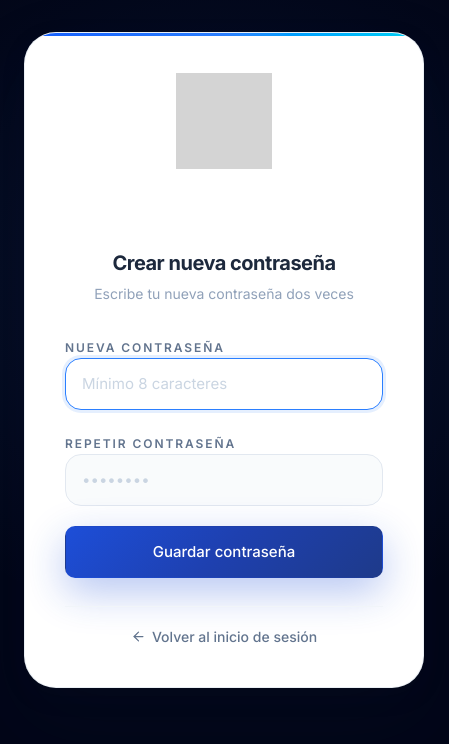
Test: ResetPasswordPage › si el enlace ya fue usado muestra el error del backend
Type "ClaveNueva123" into the password field with placeholder "Mínimo 8 caracteres" at (224, 384), box [65,358,383,410]
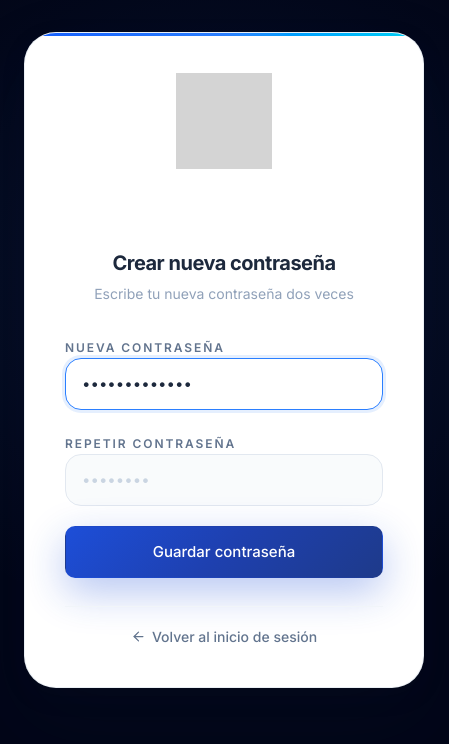
Type "ClaveNueva123" into the password field with placeholder "••••••••" at (224, 480), box [65,454,383,506]
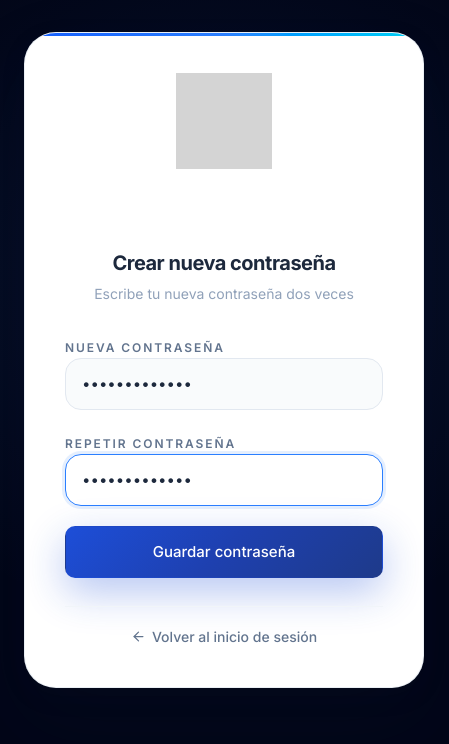
Click the button "Guardar contraseña" at (224, 552), box [65,526,383,578]
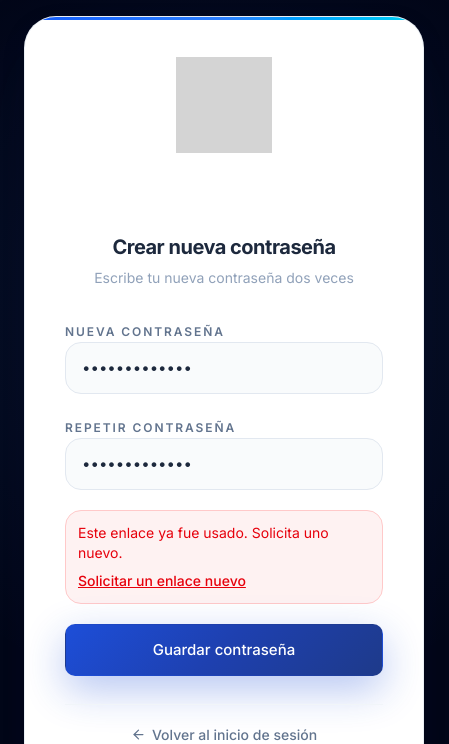
Now the text "Este enlace ya fue usado. Solicita uno nuevo." is shown, box [78,523,370,563]
